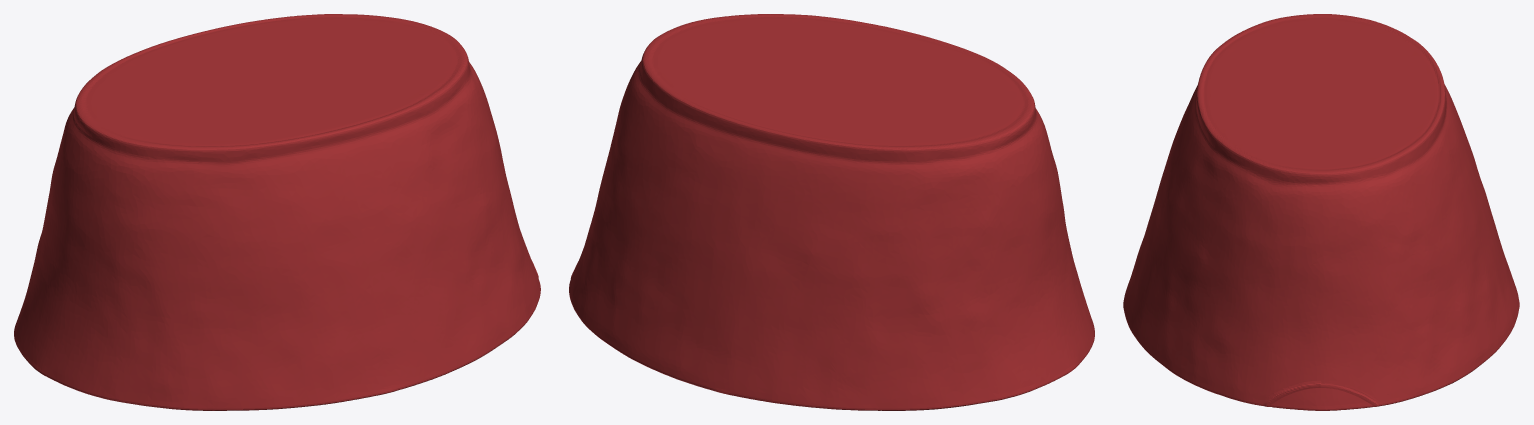
File: skirt.glb
3 views of the same model, side by side, from view 1: azimuth 30°, elevation 25°; view 2: azimuth 150°, elevation 25°; view 3: azimuth 270°, elevation 25° (orthographic). The views are drawn at different scales.
Parts seen in each view (by area): view 1: geometry_0; view 2: geometry_0; view 3: geometry_0.
Part boxes in pixels (x1,y1,x2,y2): geometry_0: (14,14,540,410); geometry_0: (569,14,1094,410); geometry_0: (1123,14,1519,410).
Size of the model in its own units: 0.6307 by 0.2941 by 0.501.
